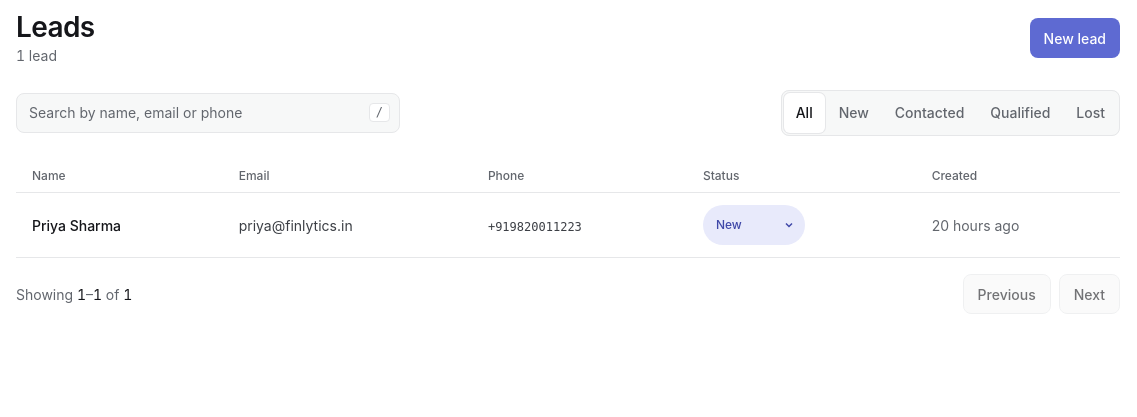
Test: App › replaces the table with the error state when the request for a new filter fails
Expected: the cell "Priya Sharma" is shown, x1=16 y1=193 x2=223 y2=258
Step 1. Click the text "Lost" → (1091, 113), box x1=1076 y1=104 x2=1105 y2=121
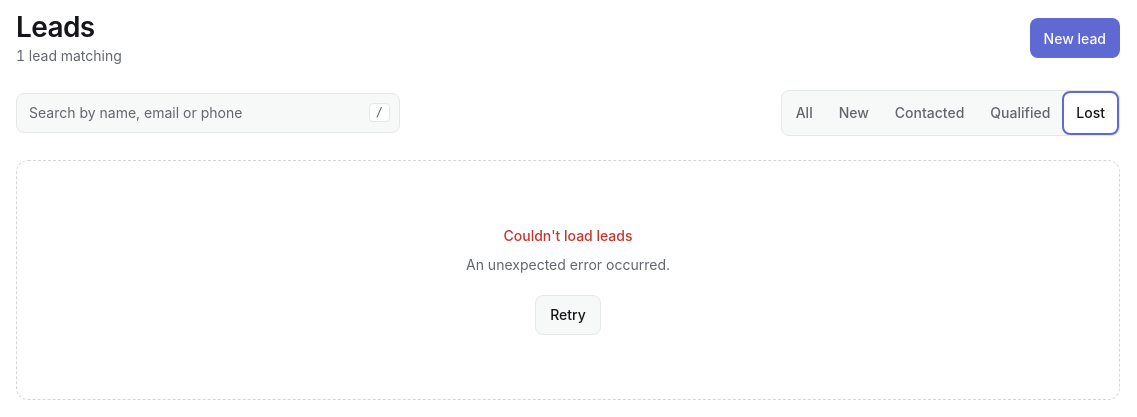
Expected: the text "Couldn't load leads" is shown, x1=504 y1=225 x2=632 y2=246
Expected: the cell "Priya Sharma" is gone
